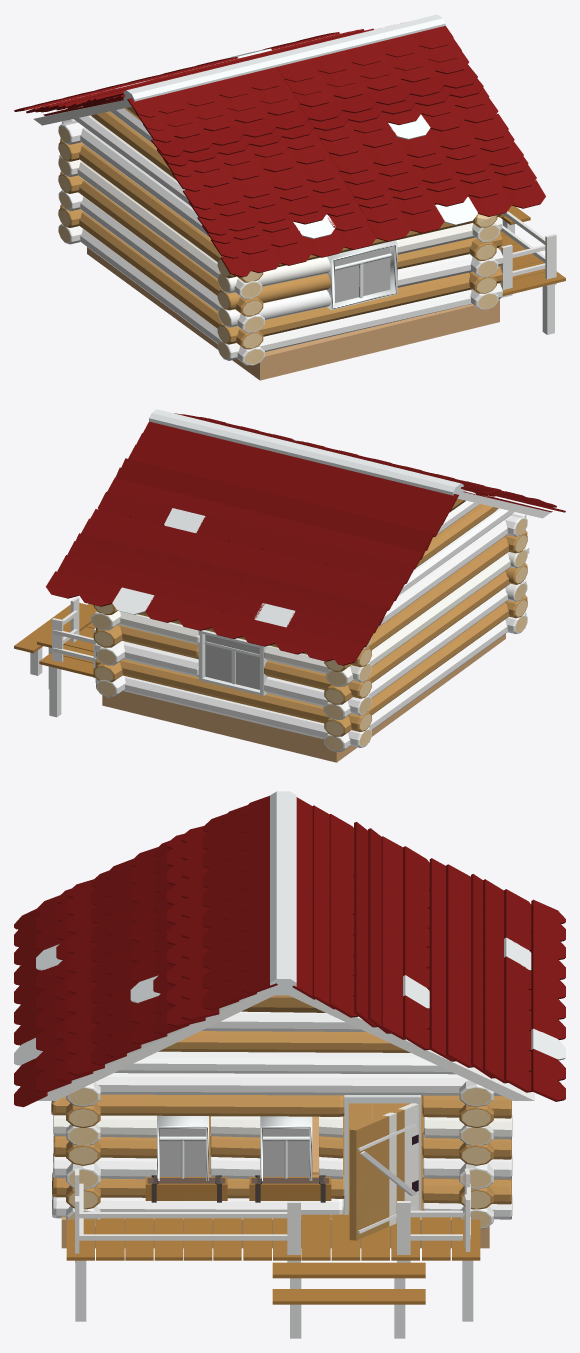
File: House_Phse3.fbx
3 renders of one model, top to bottom at view 1: azimuth 30°, elevation 25°; view 2: azimuth 150°, elevation 25°; view 3: azimuth 270°, elevation 25°, orthographic. The views are drawn at different scales.
Visible parts, largest first — view 1: :polySurface338_f_360:449], polySurface323, polySurface326, polySurface329, polySurface347; view 2: :polySurface338_f_360:449], polySurface323, polySurface326; view 3: :polySurface338_f_360:449], polySurface326, polySurface347, polySurface323.
Boxes of the visible parts, x1,y1,x2,y2 form: :polySurface338_f_360:449]: (14,14,545,365); polySurface323: (87,247,499,380); polySurface326: (498,205,565,334); polySurface329: (326,240,397,310); polySurface347: (469,223,500,309); :polySurface338_f_360:449]: (46,409,565,751); polySurface323: (102,634,505,762); polySurface326: (14,597,96,717); :polySurface338_f_360:449]: (14,791,565,1240); polySurface326: (66,1168,480,1338); polySurface347: (52,1115,344,1218); polySurface323: (61,1103,489,1248).
Bounding box in the file's own units: 1120 × 701 × 1080.
